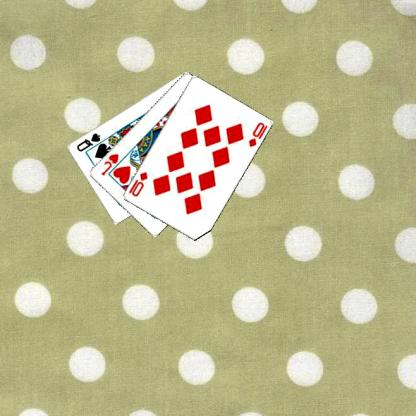10D: (127, 169, 150, 198), (248, 119, 270, 148)
JH: (100, 151, 121, 177)
QS: (76, 130, 103, 153)
